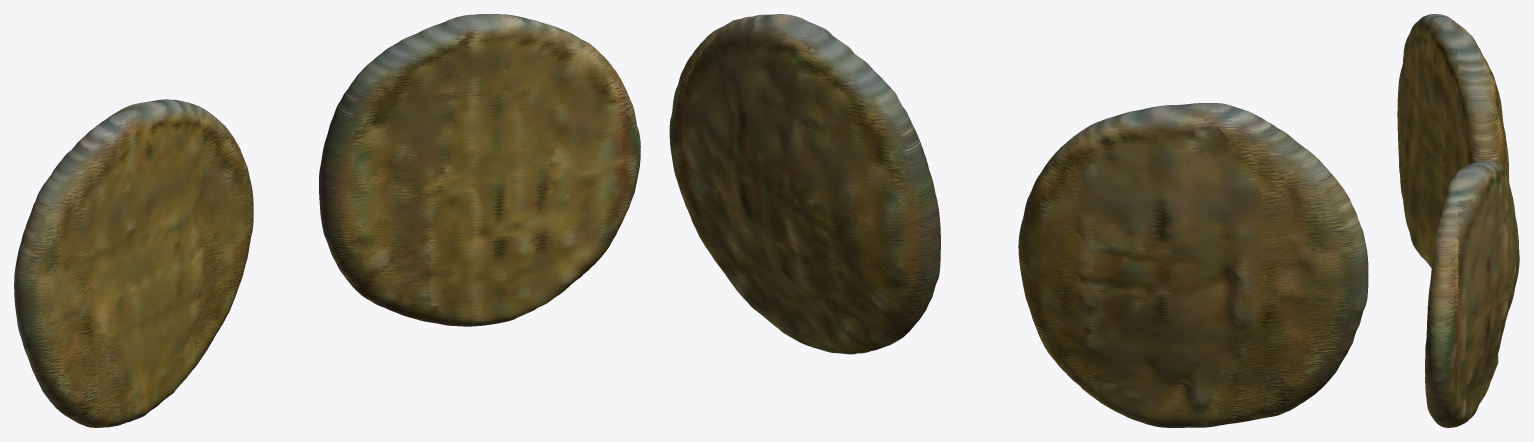
Rendered from kfl-2149.glb.
3 renders of one model, left to right at view 1: azimuth 30°, elevation 25°; view 2: azimuth 150°, elevation 25°; view 3: azimuth 270°, elevation 25°, orthographic. The views are drawn at different scales.
Visible parts, largest first — view 1: geometry_0; view 2: geometry_0; view 3: geometry_0.
Boxes of the visible parts, box(x1,y1,x2,y2) form: geometry_0: box(14, 14, 640, 427); geometry_0: box(669, 14, 1368, 427); geometry_0: box(1397, 14, 1519, 427).
Size of the model in its own units: 0.9904 by 0.4544 by 0.2008.
Materials: 1 (1 with a texture image).
